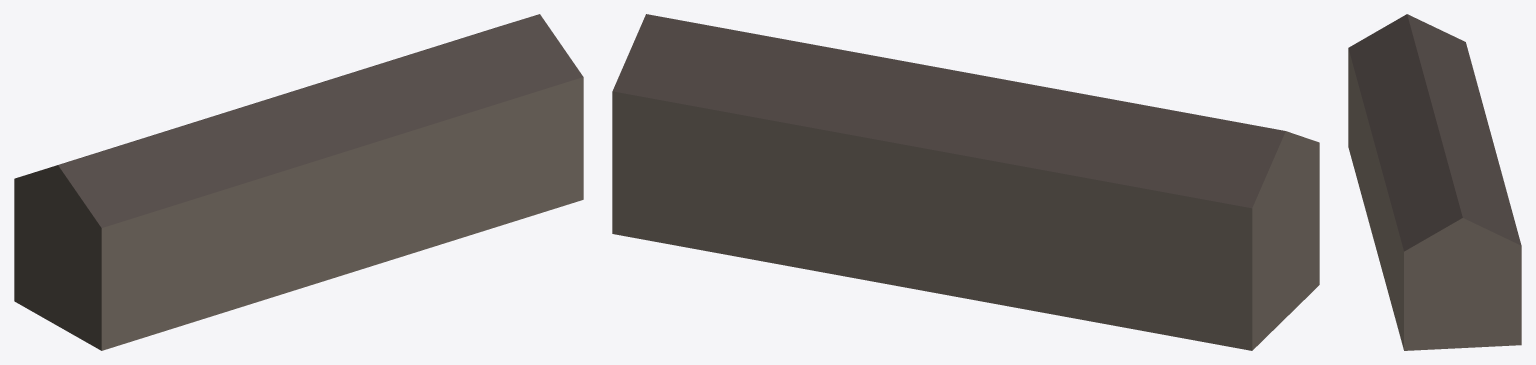
3 views of the same model, side by side, from view 1: azimuth 30°, elevation 25°; view 2: azimuth 150°, elevation 25°; view 3: azimuth 270°, elevation 25° (orthographic). The views are drawn at different scales.
Visible parts, largest first — view 1: HP-w859424278; view 2: HP-w859424278; view 3: HP-w859424278.
Part boxes in pixels (bbox=[...]): HP-w859424278: bbox=[14, 14, 583, 350]; HP-w859424278: bbox=[612, 14, 1319, 350]; HP-w859424278: bbox=[1348, 14, 1521, 350].
Bounding box in the file's own units: 40.73 × 11.8 × 14.23.
